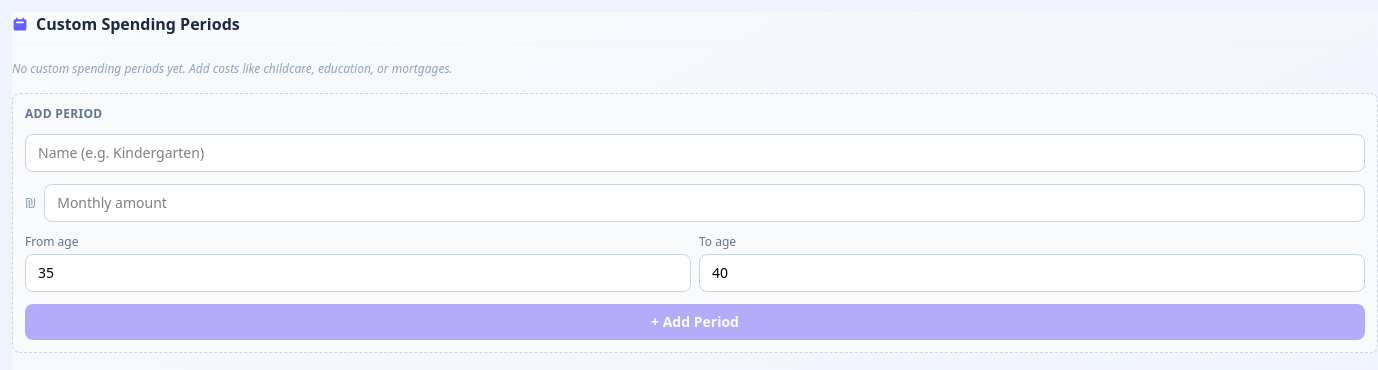
Scenario: SpendingWindowsForm › add button is enabled when name and amount are filled
Type "School" into the field named "Spending period name" at [695, 153], box [25, 134, 1365, 172]
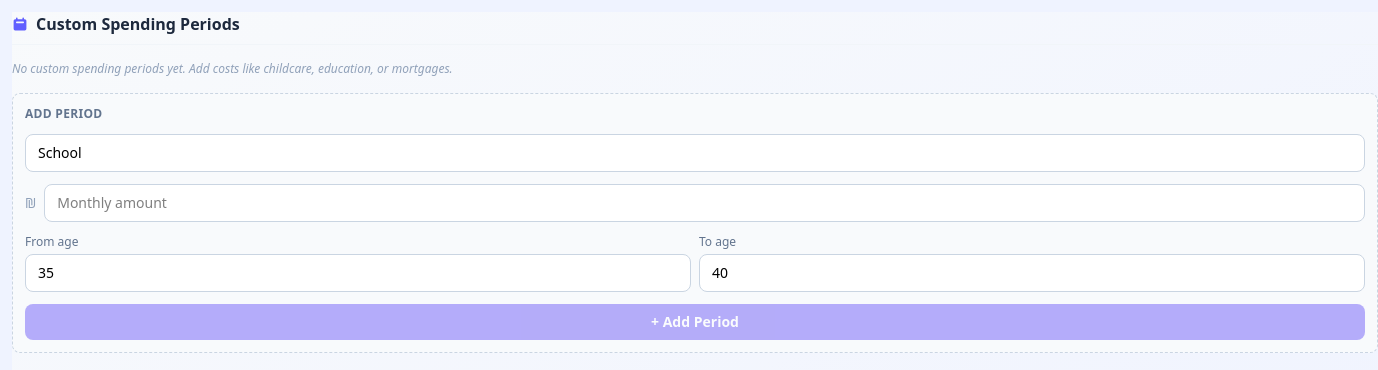
Type "1000" into the number field labelled "Monthly amount" at [705, 203], box [44, 184, 1365, 222]
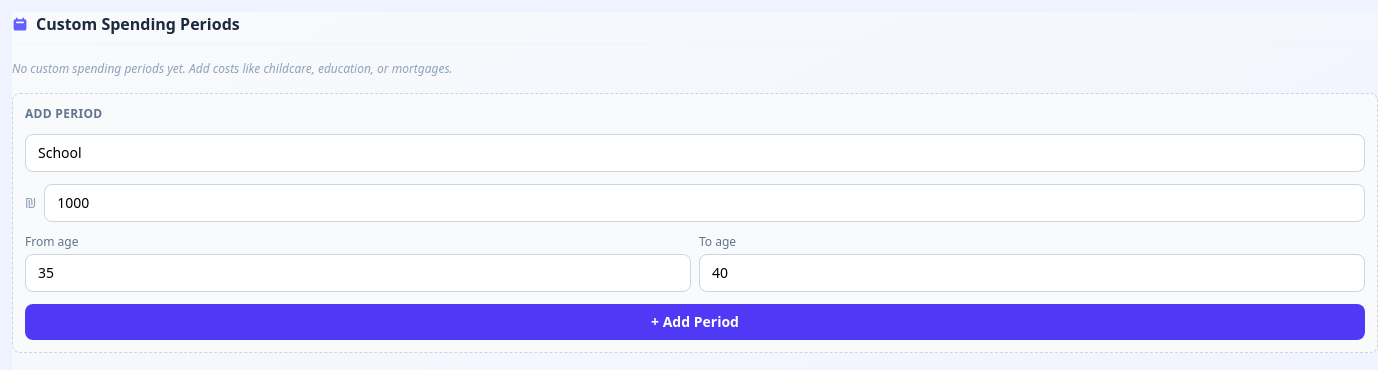
Expected: the button with aria-label "Add spending period" is enabled, [25, 304, 1365, 340]
